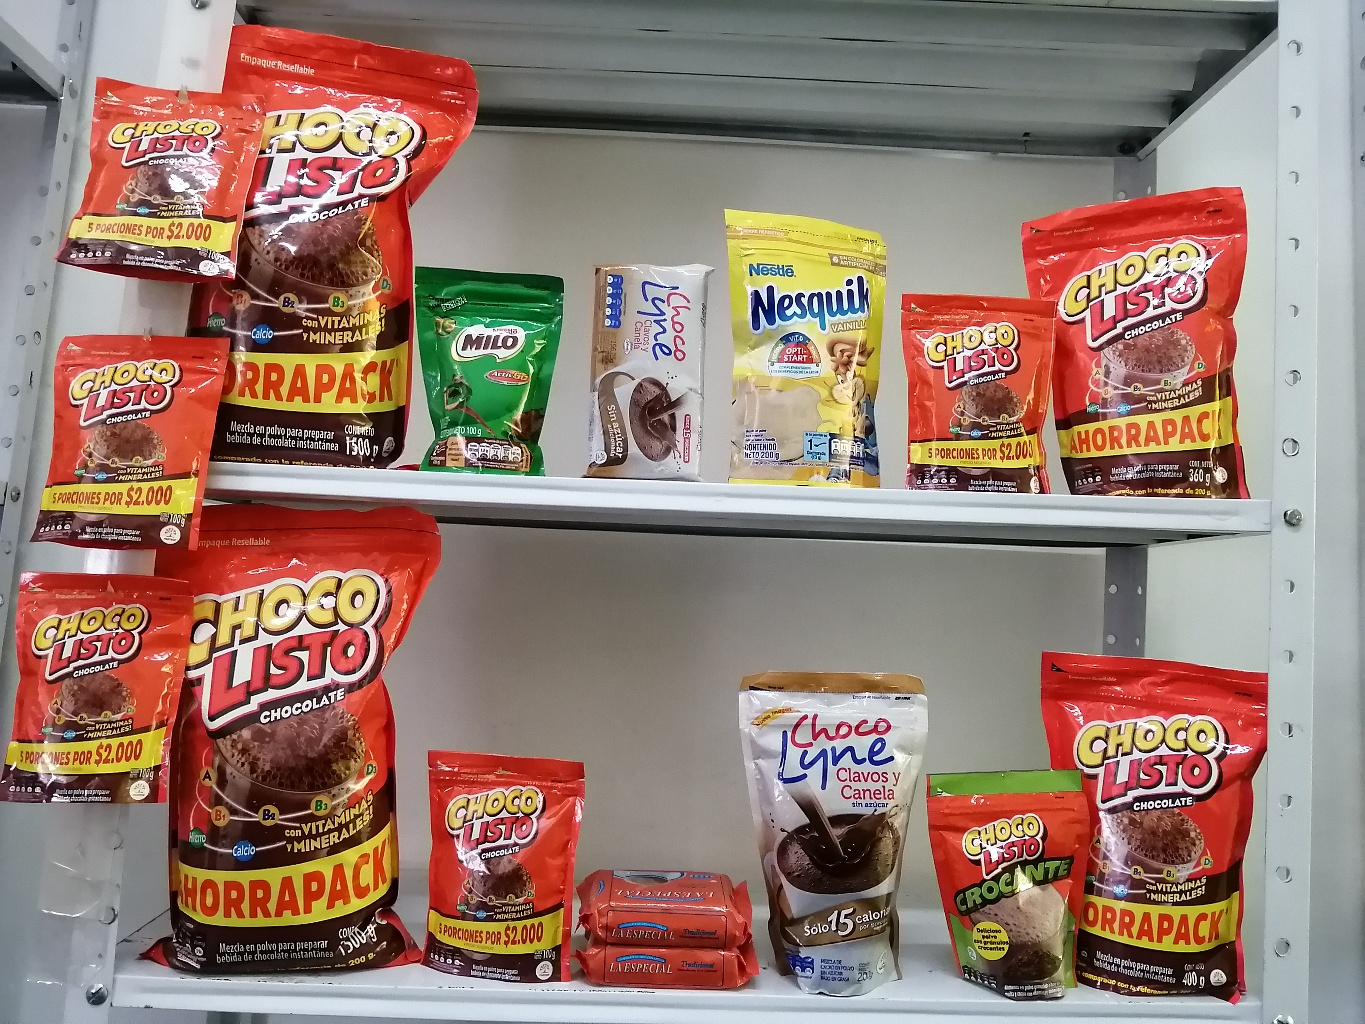COL0170102DYP10000: (927, 760, 1092, 996)
COL0170103DYP1,500: (194, 16, 479, 464)
COL0170103DYP10000: (897, 287, 1061, 496)
COL0170103DYP36000: (1016, 179, 1259, 496)
COL0170103DYP40000: (1037, 637, 1267, 1006)
COL0170203DYP10000: (412, 256, 559, 474)
COL0170306DYP20000: (727, 201, 906, 492)
